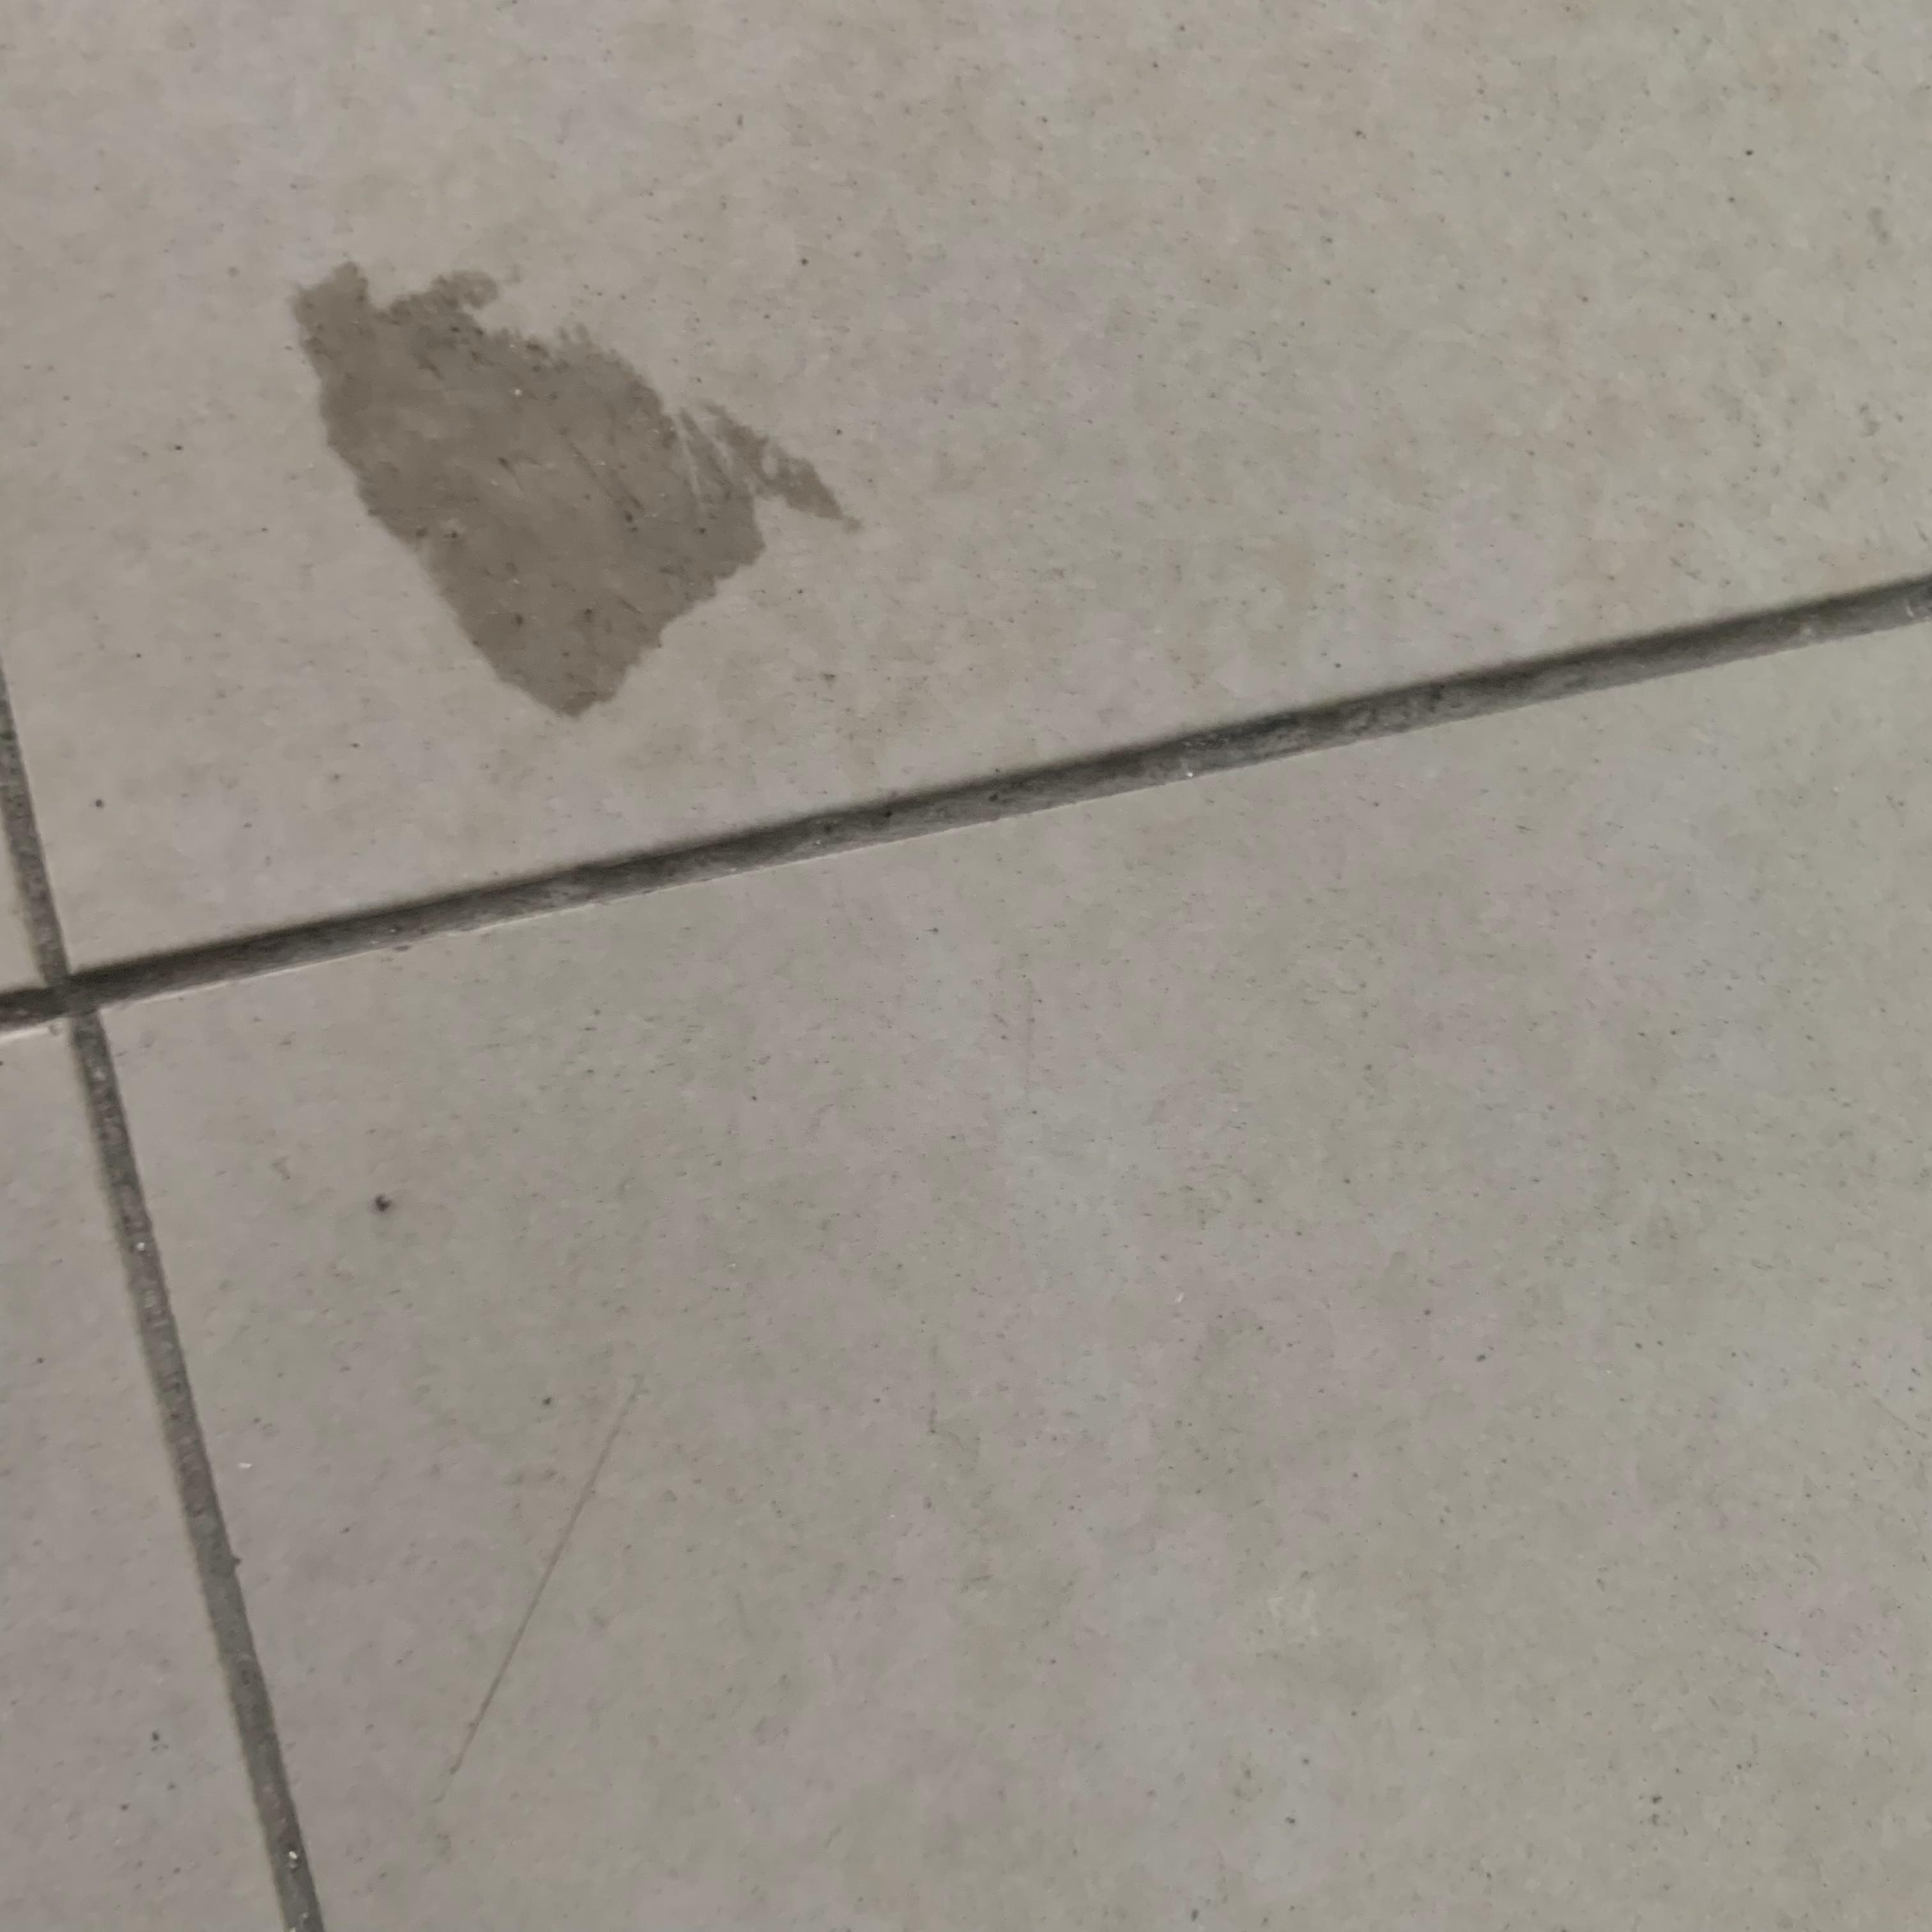grey spot: (285, 260, 862, 720)
